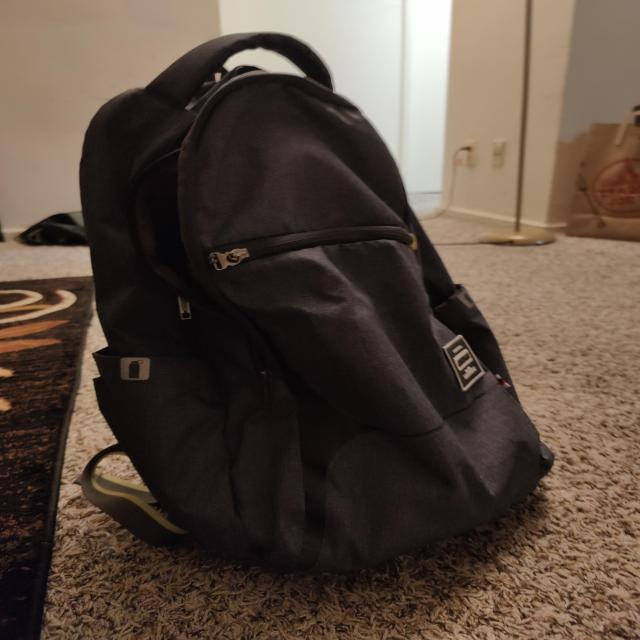bag: (79, 26, 559, 547)
